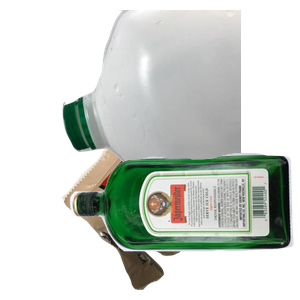glass: (67, 150, 300, 300)
metal: (99, 68, 244, 184)
plastic: (60, 10, 300, 190)
trash: (59, 124, 273, 300)
